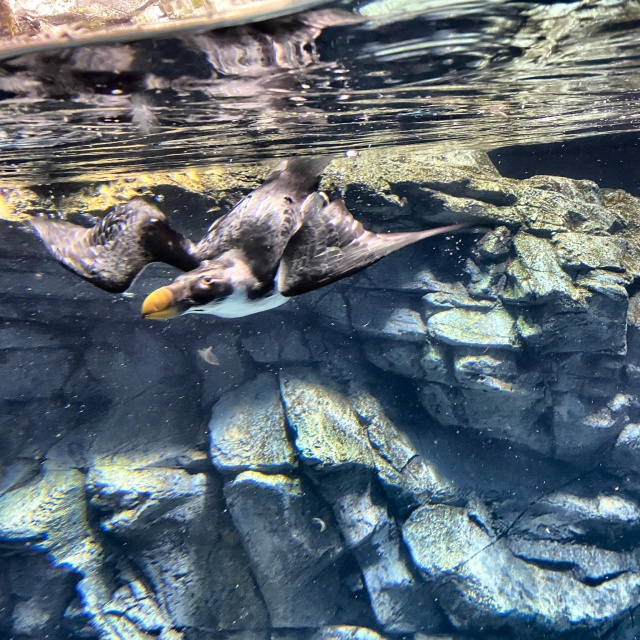puffin: (25, 152, 459, 322)
